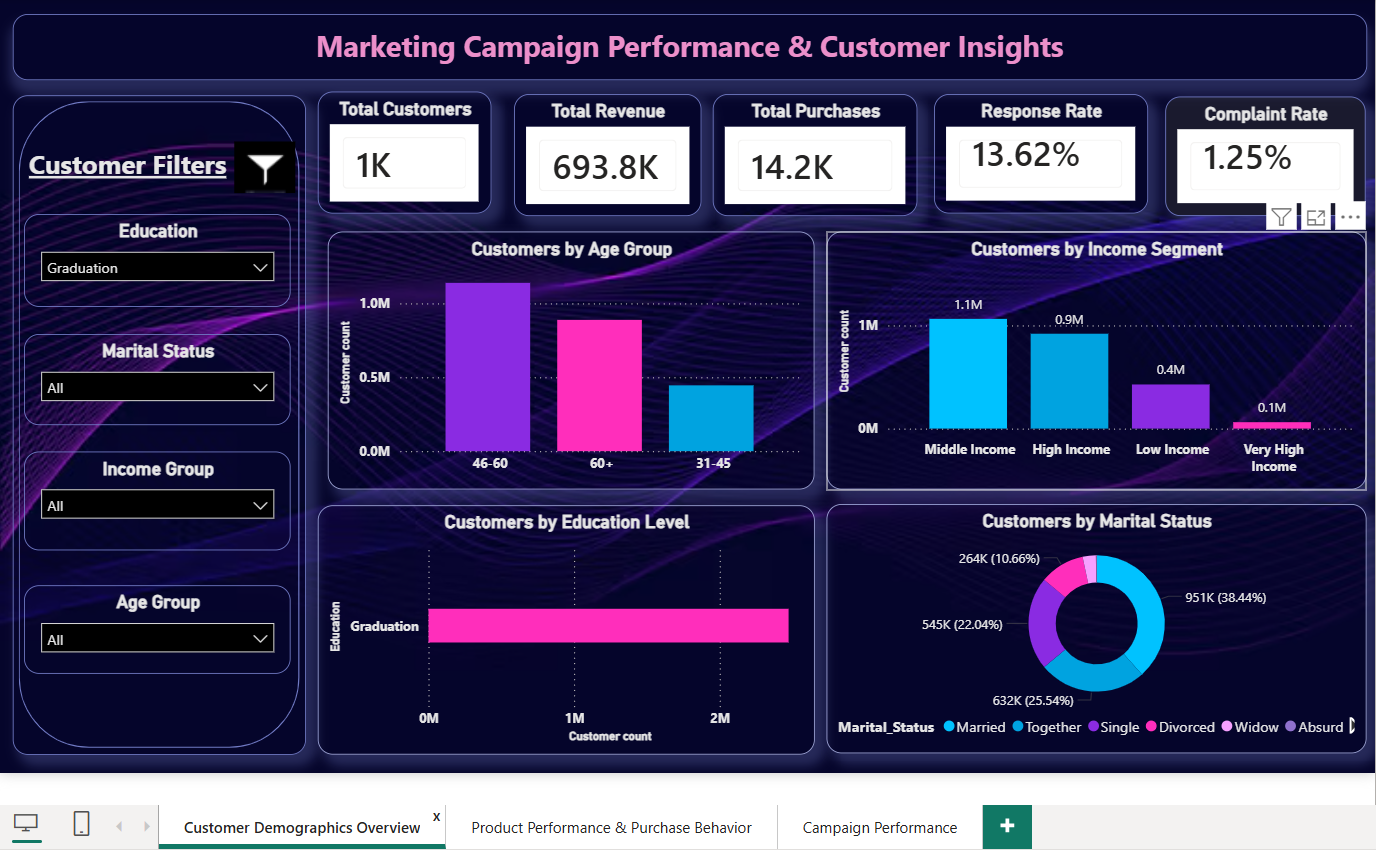

What the dashboard file says about the page in this screenshot:
{"tool":"powerbi","page":{"name":"Customer Demographics Overview","canvas":[1280,720],"ordinal":0},"visuals":[{"type":"cardVisual","title":"Total Customers","fields":{"Data":["marketing_campaign.Total Customers"]},"box":[296.4,86.4,161.9,113.9],"z":0},{"type":"cardVisual","title":"Total Revenue ","fields":{"Data":["marketing_campaign.Total Revenue"]},"box":[478.9,87.8,174.3,113.9],"z":1000},{"type":"cardVisual","title":" Response Rate","fields":{"Data":["marketing_campaign.Response Rate"]},"box":[870,87.8,199,111.1],"z":2000},{"type":"cardVisual","title":"Total Purchases","fields":{"Data":["marketing_campaign.Total Purchases"]},"box":[664.2,87.8,190.7,113.9],"z":3000},{"type":"cardVisual","title":"Complaint Rate","fields":{"Data":["marketing_campaign.Complaint Rate"]},"box":[1085.4,90.6,186.6,111.1],"z":4000},{"type":"clusteredColumnChart","title":"Customers by Age Group","fields":{"Category":["marketing_campaign.Age Group"],"Y":["Sum(marketing_campaign.Customer Count)"]},"box":[306,216.8,452.8,240.1],"z":5000},{"type":"barChart","title":"Customers by Education Level","fields":{"Category":["marketing_campaign.Education"],"Y":["Sum(marketing_campaign.Customer Count)"]},"box":[296.4,470.7,462.4,231.9],"z":6000},{"type":"donutChart","title":"Customers by Marital Status","fields":{"Category":["marketing_campaign.Marital_Status"],"Y":["Sum(marketing_campaign.Customer Count)"]},"box":[769.8,469.3,502.2,231.9],"z":7000},{"type":"clusteredColumnChart","title":"Customers by Income Segment","fields":{"Category":["marketing_campaign.Income Group"],"Y":["Sum(marketing_campaign.Customer Count)"]},"box":[769.8,216.8,502.2,240.1],"z":8000},{"type":"textbox","box":[12.3,13.7,1259.7,61.7],"z":9000},{"type":"shape","box":[12.3,89.2,273.1,613.4],"z":10000},{"type":"textbox","box":[2.7,133.1,234.6,54.9],"z":11000},{"type":"image","box":[199,133.1,97.4,48],"z":12000},{"type":"slicer","title":"Education","fields":{"Values":["marketing_campaign.Education"]},"box":[23.3,200.3,248.4,86.4],"z":13000},{"type":"slicer","title":"Marital Status","fields":{"Values":["marketing_campaign.Marital_Status"]},"box":[23.3,311.5,248.4,85.1],"z":14000},{"type":"slicer","title":"Income Group","fields":{"Values":["marketing_campaign.Income Group"]},"box":[23.3,421.3,248.4,91.9],"z":15000},{"type":"slicer","title":"Age Group","fields":{"Values":["marketing_campaign.Age Group"]},"box":[23.3,544.8,248.4,82.3],"z":16000}]}

Visuals, with their boxes on the page's 1280x720 design canvas (x1, y1, x2, y2). These are canvas units, not pixel positions in the 1376x850 screenshot, which may show the page scaled, cropped or inside an application window:
"Total Customers" cardVisual: (296, 86, 458, 200)
"Total Revenue " cardVisual: (479, 88, 653, 202)
" Response Rate" cardVisual: (870, 88, 1069, 199)
"Total Purchases" cardVisual: (664, 88, 855, 202)
"Complaint Rate" cardVisual: (1085, 91, 1272, 202)
"Customers by Age Group" clusteredColumnChart: (306, 217, 759, 457)
"Customers by Education Level" barChart: (296, 471, 759, 703)
"Customers by Marital Status" donutChart: (770, 469, 1272, 701)
"Customers by Income Segment" clusteredColumnChart: (770, 217, 1272, 457)
textbox: (12, 14, 1272, 75)
shape: (12, 89, 285, 703)
textbox: (3, 133, 237, 188)
image: (199, 133, 296, 181)
"Education" slicer: (23, 200, 272, 287)
"Marital Status" slicer: (23, 312, 272, 397)
"Income Group" slicer: (23, 421, 272, 513)
"Age Group" slicer: (23, 545, 272, 627)
